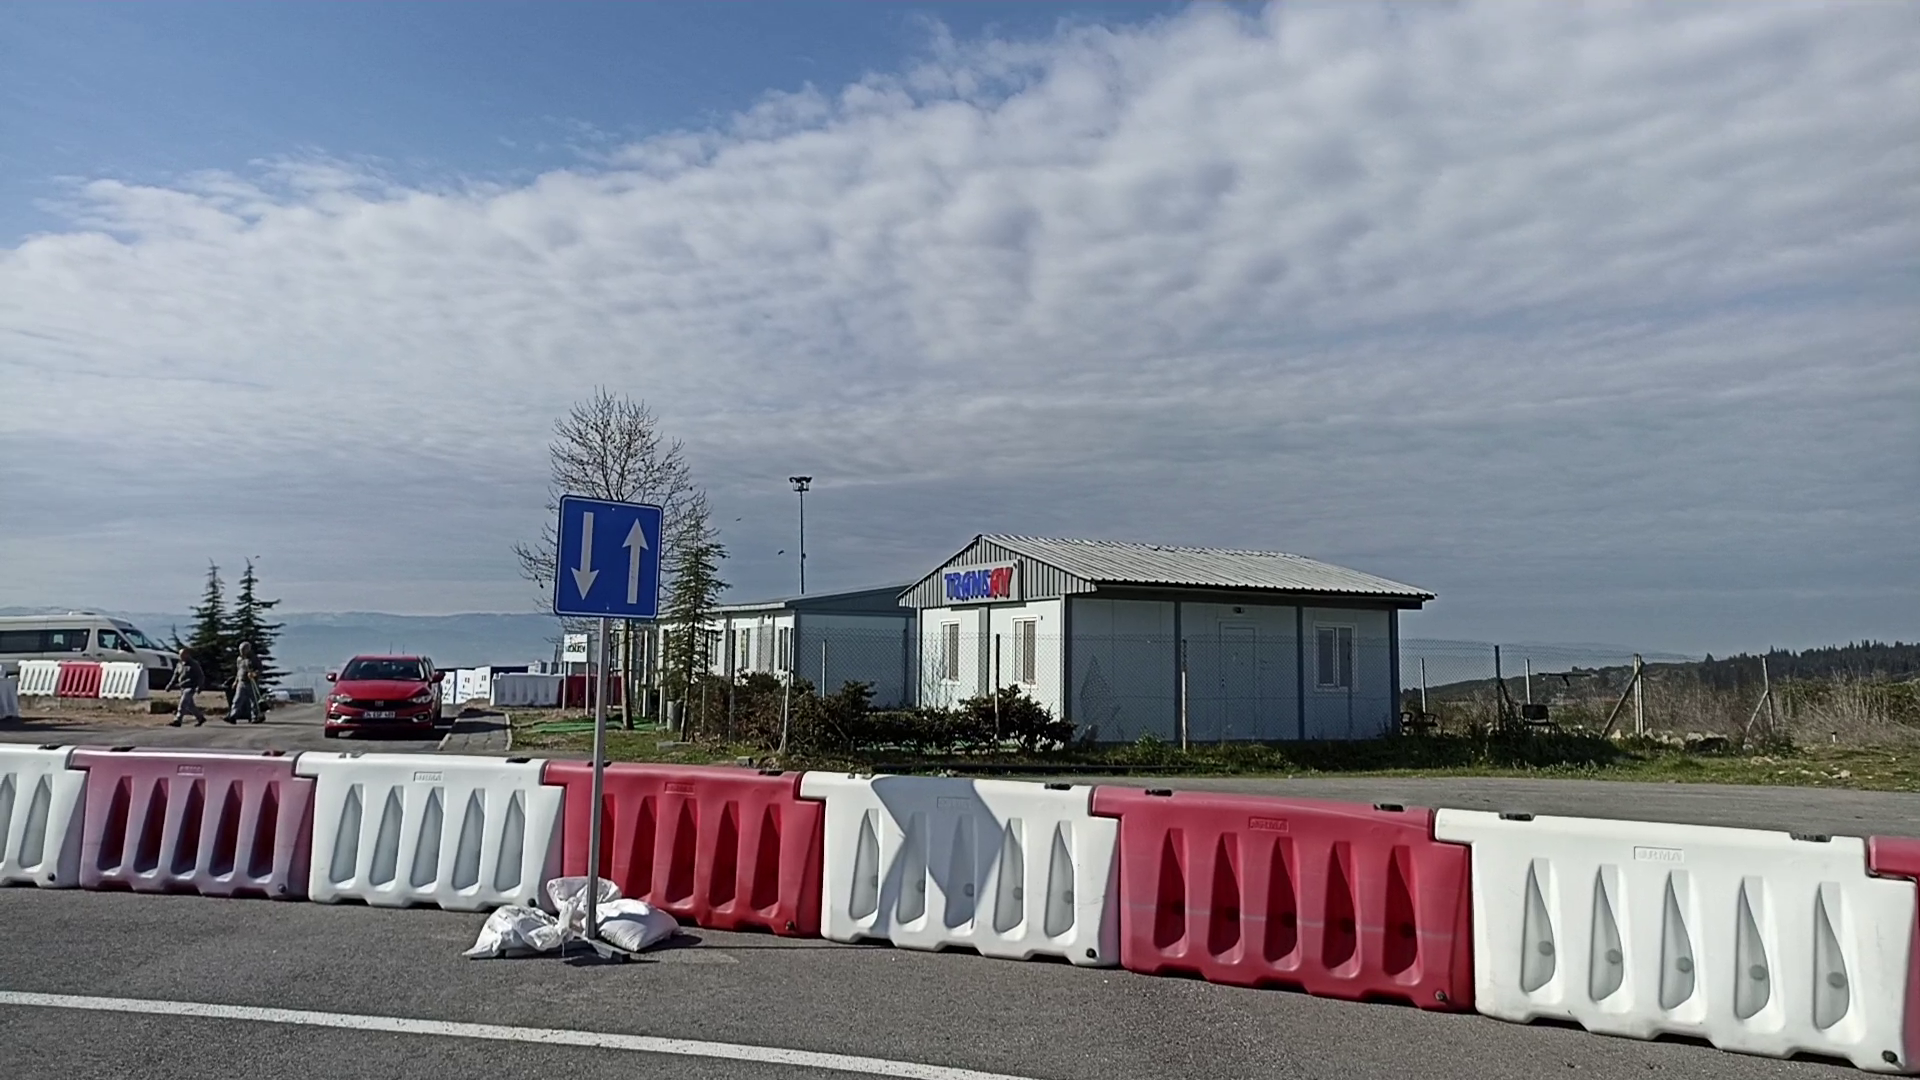oneway: (553, 492, 666, 622)
